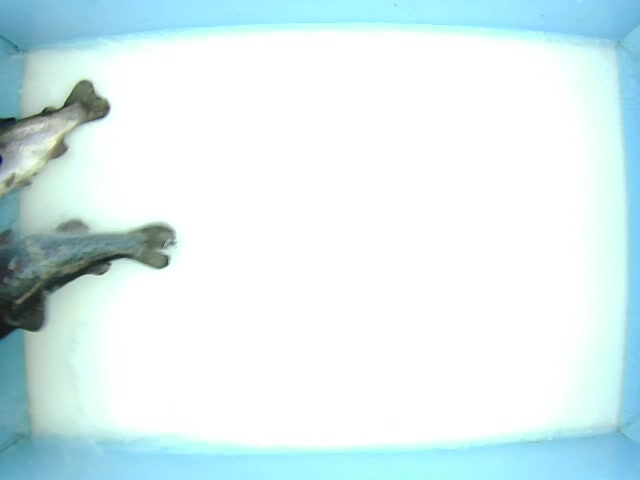fish: (1, 208, 199, 337), (1, 89, 110, 193)
